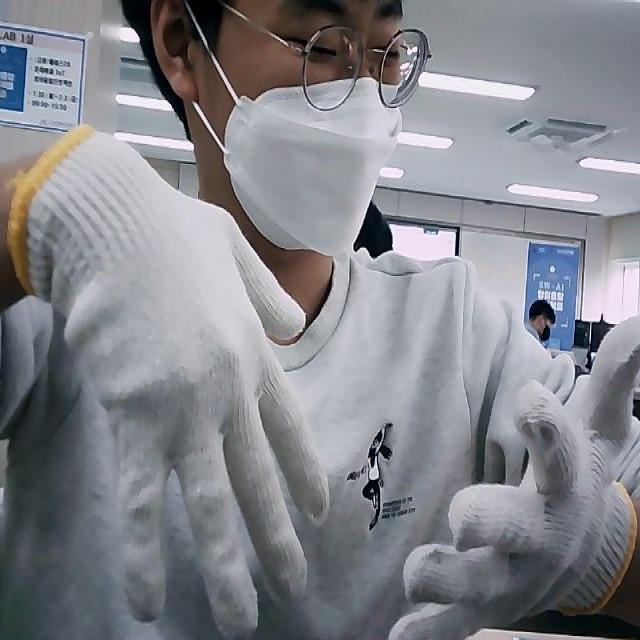gloves: (11, 128, 329, 640), (390, 315, 640, 640)
goggles: (216, 0, 434, 115)
